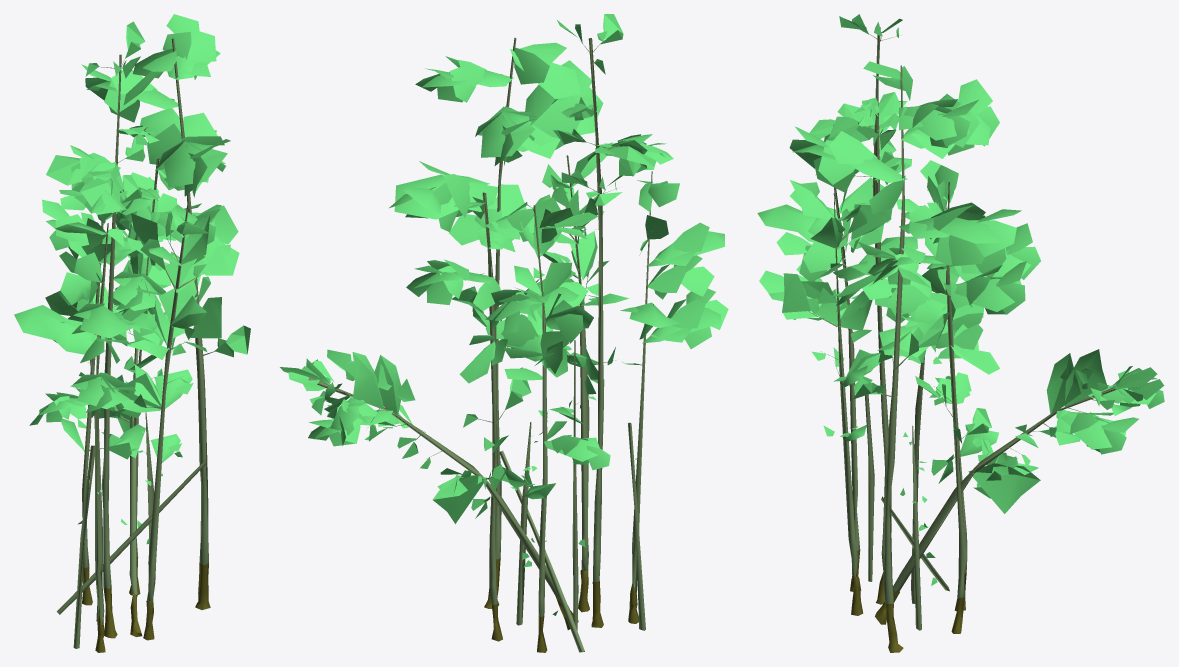
The model's file is Bamboo_Cluster1_LOD1.fbx.
3 views of the same model, side by side, from view 1: azimuth 30°, elevation 25°; view 2: azimuth 150°, elevation 25°; view 3: azimuth 270°, elevation 25° (orthographic).
Parts seen in each view (by area): view 1: Bamboo_Cluster1_LOD1; view 2: Bamboo_Cluster1_LOD1; view 3: Bamboo_Cluster1_LOD1.
Boxes of the visible parts, x1,y1,x2,y2 form: Bamboo_Cluster1_LOD1: [14, 14, 250, 652]; Bamboo_Cluster1_LOD1: [280, 14, 728, 652]; Bamboo_Cluster1_LOD1: [757, 14, 1164, 652].
Size of the model in its own units: 1415 by 3075 by 1867.
